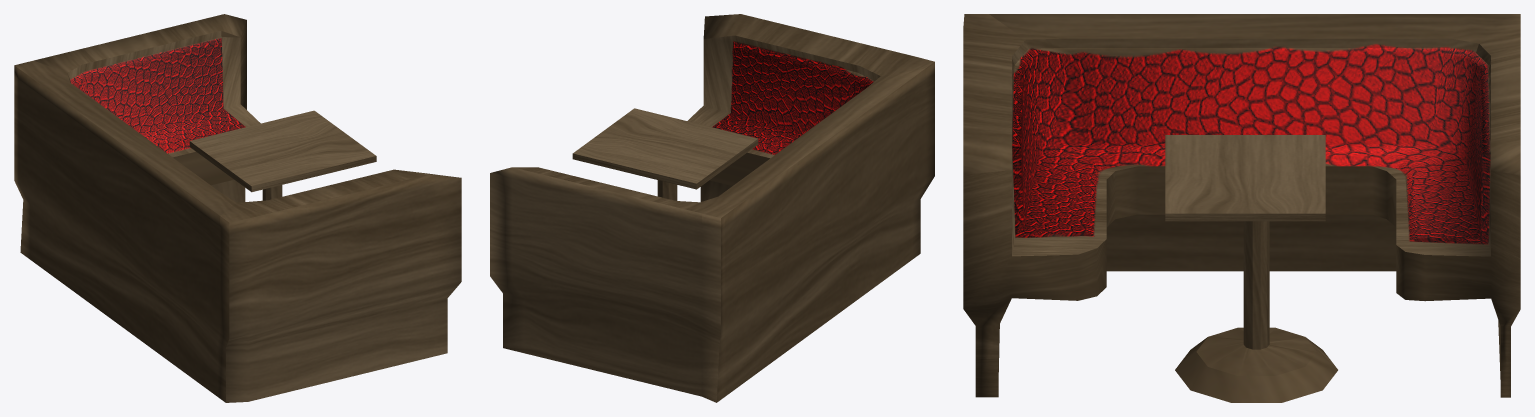
Rendered from Booth and Table.fbx.
3 renders of one model, left to right at view 1: azimuth 30°, elevation 25°; view 2: azimuth 150°, elevation 25°; view 3: azimuth 270°, elevation 25°, orthographic. The views are drawn at different scales.
Parts seen in each view (by area): view 1: pasted__pCube3; view 2: pasted__pCube3; view 3: pasted__pCube3.
Boxes of the visible parts, box(x1,y1,x2,y2) form: pasted__pCube3: box(14, 14, 461, 402); pasted__pCube3: box(490, 14, 934, 402); pasted__pCube3: box(963, 14, 1520, 402).
Bounding box in the file's own units: 161 × 132 × 258.
